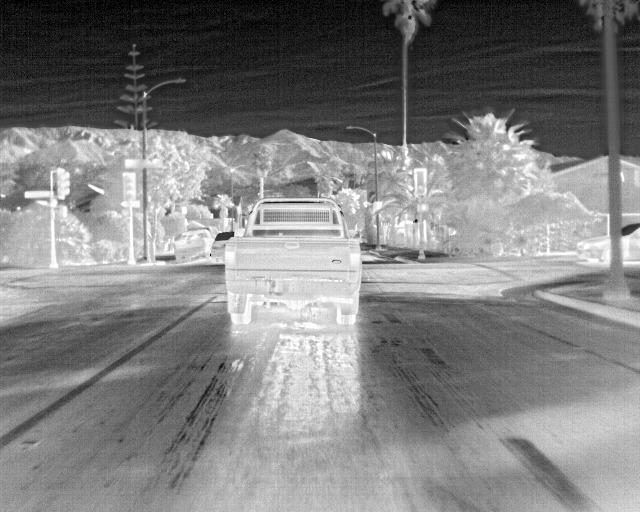car: (225, 197, 362, 324), (577, 224, 639, 263), (174, 229, 214, 263), (210, 232, 235, 263)
light: (59, 171, 70, 196), (125, 174, 135, 200), (416, 170, 424, 193), (60, 206, 67, 219), (418, 203, 427, 212)
sign: (125, 159, 160, 169), (25, 191, 50, 198), (121, 201, 140, 207), (373, 202, 382, 212), (182, 207, 187, 215)
